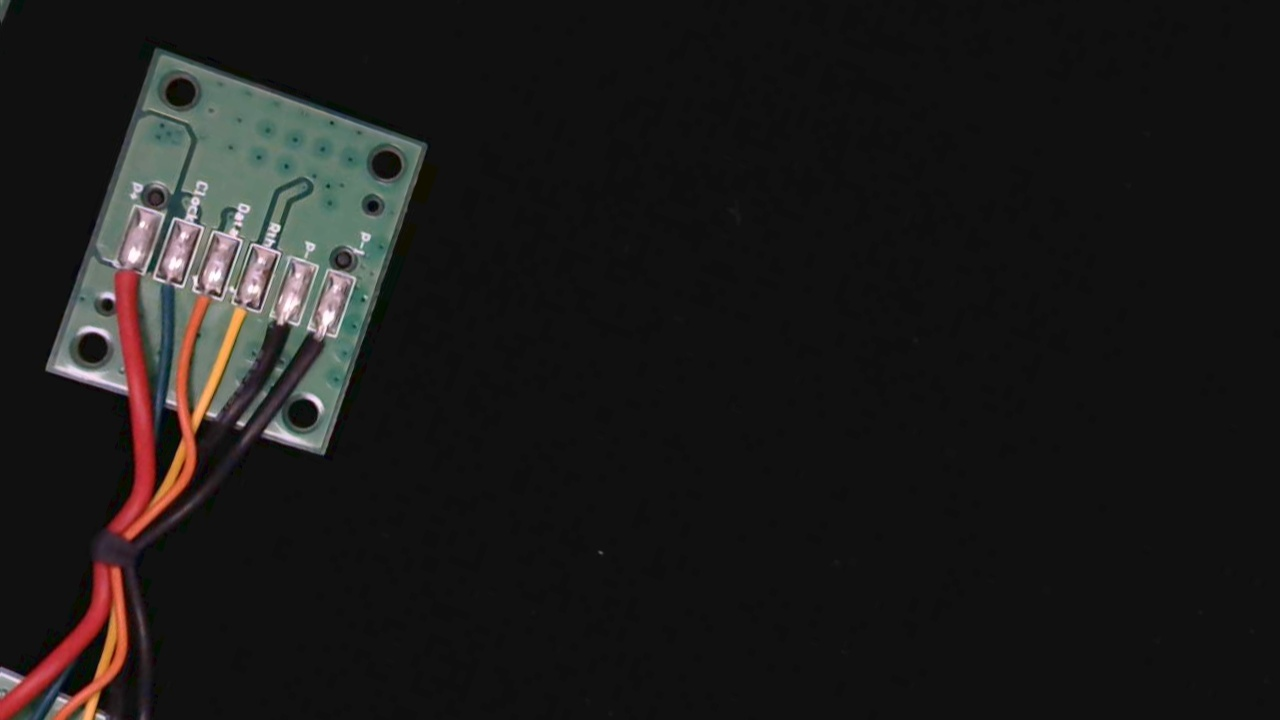Black: (251, 300, 302, 371)
Black1: (287, 313, 341, 387)
Green: (136, 260, 188, 326)
Orange: (174, 273, 224, 341)
Red: (92, 248, 148, 325)
Yellow: (213, 288, 266, 358)
